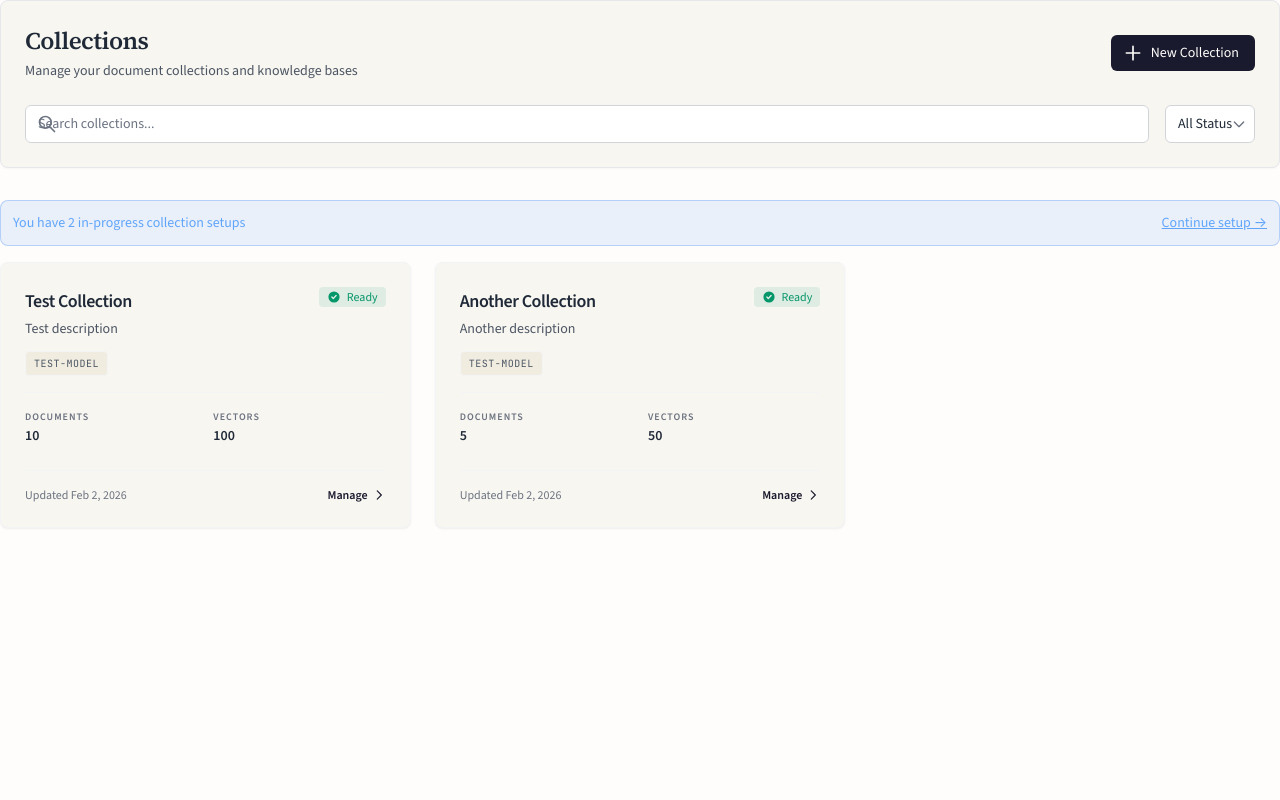
Scenario: CollectionsDashboard - Network Error Handling › Search with Network Errors › should still allow searching in already loaded collections when network fails
Expected: the heading "Test Collection" is shown, x1=25 y1=289 x2=132 y2=313
Expected: the heading "Another Collection" is shown, x1=460 y1=289 x2=596 y2=313
// Search should still work on cached data
In the field with placeholder "Search collections...": (587,124) x1=25 y1=105 x2=1149 y2=143, type "test"
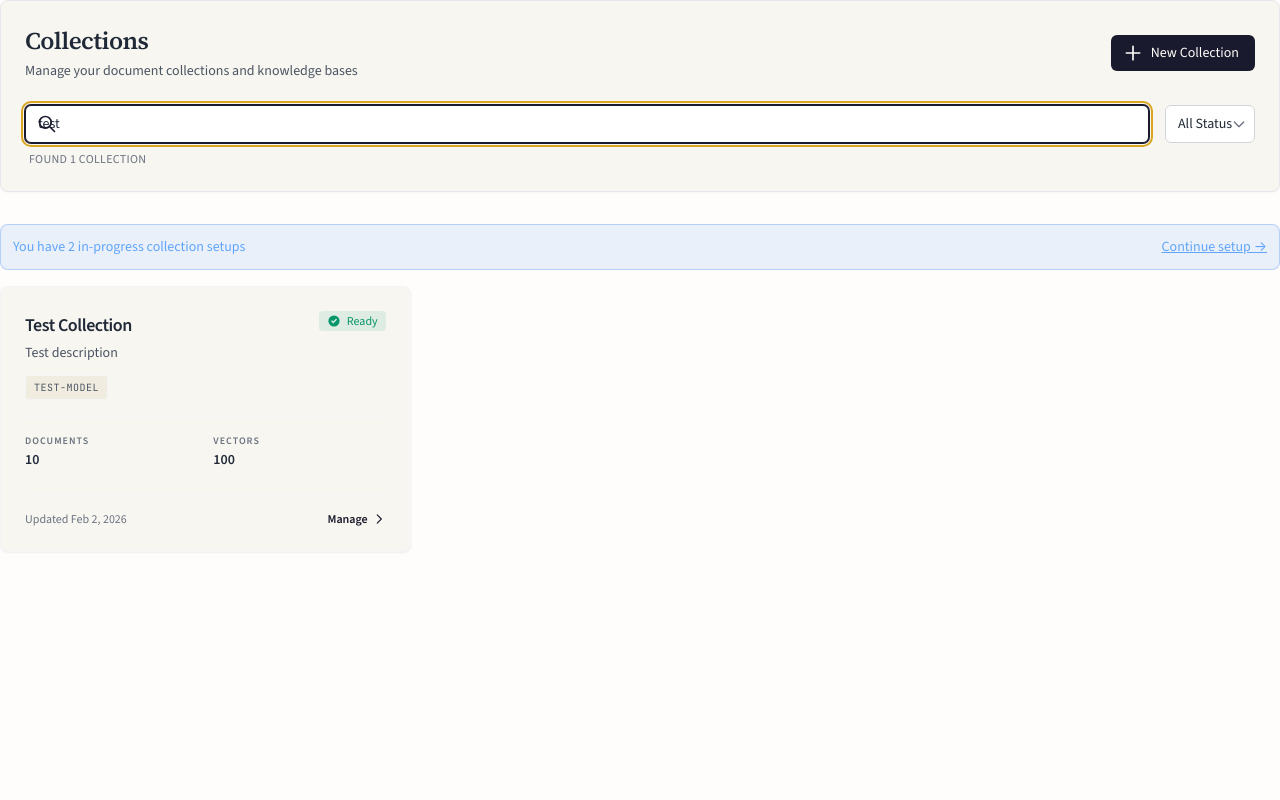
Expected: the heading "Test Collection" is shown, x1=25 y1=313 x2=132 y2=337
Result: the heading "Another Collection" is gone
